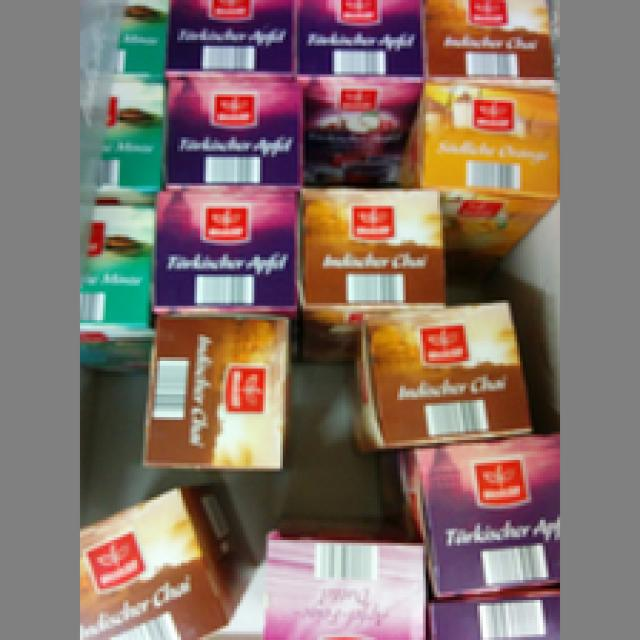groceries: (394, 80, 554, 271), (343, 300, 531, 446), (83, 477, 251, 637), (134, 312, 286, 468), (300, 180, 440, 349), (294, 0, 423, 183), (152, 188, 294, 308)
